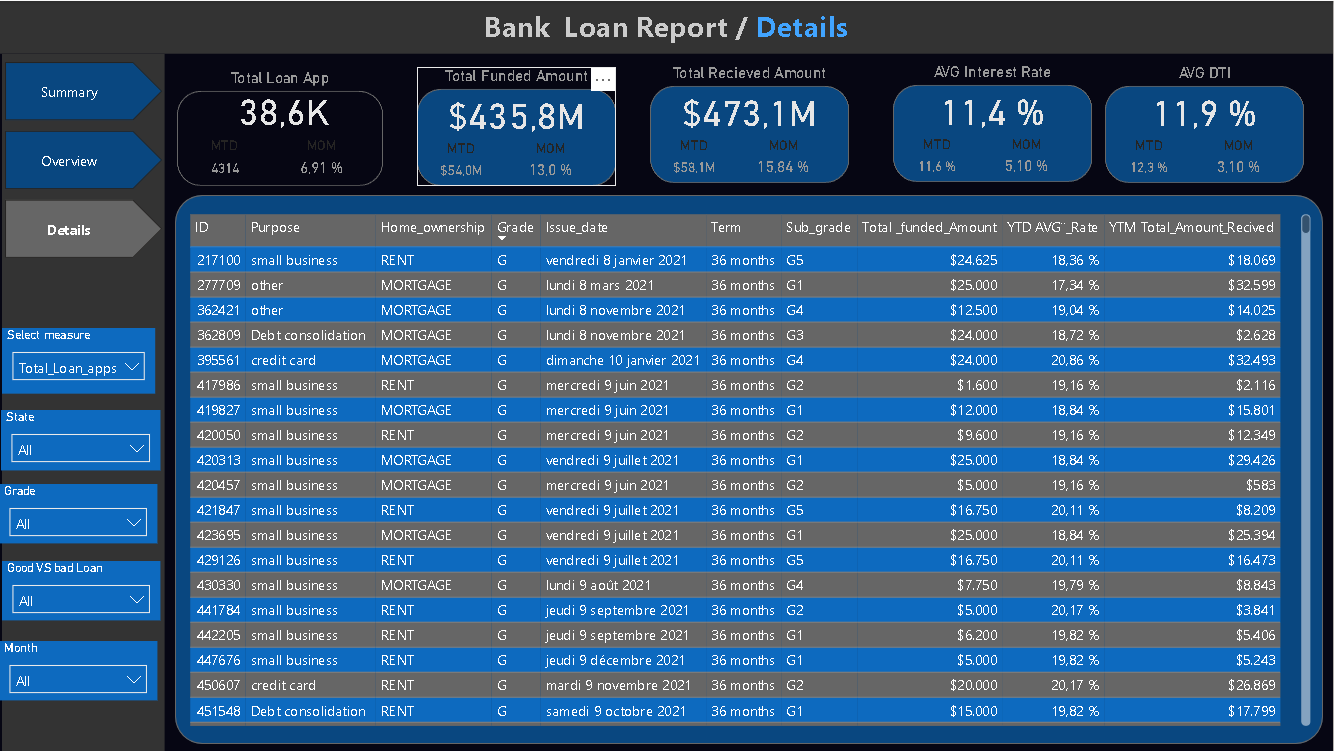

The page's visual inventory and layout, read from the dashboard file:
{"tool":"powerbi","page":{"name":"Details","canvas":[1280,720],"ordinal":2},"visuals":[{"type":"shape","box":[0,0,1280,50.6],"z":0},{"type":"shape","title":"AVG Interest Rate","box":[857.8,59.5,191.3,114.3],"z":0,"group":"g5"},{"type":"shape","title":"Total Recieved Amount ","box":[624.6,60.4,191.3,114.3],"z":0,"group":"g3"},{"type":"shape","title":"AVG DTI","box":[1061.5,60.4,191.3,114.3],"z":0,"group":"g4"},{"type":"shape","title":"Total Funded Amount","box":[401.2,63.4,191.3,114.3],"z":0,"group":"g2"},{"type":"shape","title":"Total Loan App","box":[170.9,64.8,197.8,112.3],"z":0,"group":"g1"},{"type":"shape","box":[2.9,50.9,156.4,668.8],"z":1000},{"type":"card","fields":{"Values":["bank-data.Total_Loan_apps"]},"box":[181.4,77,185.4,52.6],"z":1000,"group":"g1"},{"type":"card","fields":{"Values":["bank-data.YTD AVG¨_Rate"]},"box":[868.3,79.1,169.2,50.1],"z":1000,"group":"g5"},{"type":"card","fields":{"Values":["bank-data.YTM Total_Amount_Recived"]},"box":[635.1,80,169.2,50.1],"z":1000,"group":"g3"},{"type":"card","fields":{"Values":["bank-data.YTD AVG¨_DTI"]},"box":[1072,80,169.2,50.1],"z":1000,"group":"g4"},{"type":"card","fields":{"Values":["bank-data.Total _funded_Amount"]},"box":[411.7,83,169.2,50.1],"z":1000,"group":"g2"},{"type":"textbox","box":[408.5,0,463,50.6],"z":2000},{"type":"card","title":"MTD ","fields":{"Values":["bank-data.MTD AVG_Rate"]},"box":[868.3,129.1,64.1,44.6],"z":2000,"group":"g5"},{"type":"card","title":"MTD ","fields":{"Values":["bank-data.MTD Loan_App"]},"box":[181.4,129.6,70.2,46.9],"z":2000,"group":"g1"},{"type":"card","title":"MTD ","fields":{"Values":["bank-data.MTD Receved_Amount"]},"box":[635.1,130,64.1,44.6],"z":2000,"group":"g3"},{"type":"card","title":"MTD ","fields":{"Values":["bank-data.MTD AVG_DTI"]},"box":[1072,130,64.1,44.6],"z":2000,"group":"g4"},{"type":"card","title":"MTD ","fields":{"Values":["bank-data.MTD Fundden_AMount"]},"box":[411.7,133,64.1,44.6],"z":2000,"group":"g2"},{"type":"group","id":"g1","title":"Group 1","box":[170.9,64.8,197.8,112.3],"z":3000},{"type":"card","title":"MOM","fields":{"Values":["bank-data.MOM AVG_Rate"]},"box":[953.4,129.1,64.1,44.6],"z":3000,"group":"g5"},{"type":"card","title":"MOM","fields":{"Values":["bank-data.MOM Loan_App"]},"box":[274.6,129.6,70.2,46.9],"z":3000,"group":"g1"},{"type":"card","title":"MOM","fields":{"Values":["bank-data.MOM Total_Receved_amount"]},"box":[720.2,130,64.1,44.6],"z":3000,"group":"g3"},{"type":"card","title":"MOM","fields":{"Values":["bank-data.MOM AVG_DTI"]},"box":[1157.1,130,64.1,44.6],"z":3000,"group":"g4"},{"type":"card","title":"MOM","fields":{"Values":["bank-data.MOM Total_Funded_amount"]},"box":[496.8,133,64.1,44.6],"z":3000,"group":"g2"},{"type":"group","id":"g2","title":"Group 1","box":[401.2,63.4,190.8,114.3],"z":4000},{"type":"group","id":"g3","title":"Group 1","box":[624.6,60.4,190.9,113.2],"z":5000},{"type":"group","id":"g4","title":"Group 1","box":[1061.5,60.4,190.3,113.8],"z":6000},{"type":"group","id":"g5","title":"Group 1","box":[857.8,59.5,190.9,114.2],"z":7000},{"type":"shape","box":[168.9,186.1,1101.5,526.8],"z":8000},{"type":"slicer","title":"State","fields":{"Values":["bank-data.address_state"]},"box":[1.9,392.4,152.6,57.6],"z":9000},{"type":"slicer","title":"Grade","fields":{"Values":["bank-data.grade"]},"box":[0,463.4,151.6,56.6],"z":10000},{"type":"slicer","title":"Good VS bad Loan","fields":{"Values":["bank-data.Good vs Bad Loan"]},"box":[2.9,537.3,151.6,56.6],"z":11000},{"type":"slicer","title":"Month","fields":{"Values":["Date_Table.Month"]},"box":[0,614.1,151.6,56.6],"z":12000},{"type":"slicer","title":"Select measure","fields":{"Values":["select Measure.select Measure"]},"box":[2.9,313.8,146.8,63.3],"z":13000},{"type":"tableEx","fields":{"Values":["bank-data.id","bank-data.purpose","bank-data.home_ownership","bank-data.grade","bank-data.issue_date","bank-data.term","bank-data.sub_grade","bank-data.Total _funded_Amount","bank-data.YTD AVG¨_Rate","bank-data.YTM Total_Amount_Recived"]},"box":[177.5,199.6,1086.2,500.9],"z":14000},{"type":"pageNavigator","box":[5.8,58.5,151.6,188.1],"z":15000}]}

Visuals, with their boxes in screenshot pixels (x1, y1, x2, y2), scaled from the page's 1280x720 canvas onto the 1334x751 screenshot:
shape: rect(0, 0, 1333, 53)
"AVG Interest Rate" shape: rect(894, 62, 1093, 181)
"Total Recieved Amount " shape: rect(651, 63, 850, 182)
"AVG DTI" shape: rect(1106, 63, 1306, 182)
"Total Funded Amount" shape: rect(418, 66, 617, 185)
"Total Loan App" shape: rect(178, 68, 384, 185)
shape: rect(3, 53, 166, 750)
card - bank-data.Total_Loan_apps: rect(189, 80, 382, 135)
card - bank-data.YTD AVG¨_Rate: rect(905, 83, 1081, 135)
card - bank-data.YTM Total_Amount_Recived: rect(662, 83, 838, 136)
card - bank-data.YTD AVG¨_DTI: rect(1117, 83, 1294, 136)
card - bank-data.Total _funded_Amount: rect(429, 87, 605, 139)
textbox: rect(426, 0, 908, 53)
"MTD " card: rect(905, 135, 972, 181)
"MTD " card: rect(189, 135, 262, 184)
"MTD " card: rect(662, 136, 729, 182)
"MTD " card: rect(1117, 136, 1184, 182)
"MTD " card: rect(429, 139, 496, 185)
"Group 1" group: rect(178, 68, 384, 185)
"MOM" card: rect(994, 135, 1060, 181)
"MOM" card: rect(286, 135, 359, 184)
"MOM" card: rect(751, 136, 817, 182)
"MOM" card: rect(1206, 136, 1273, 182)
"MOM" card: rect(518, 139, 585, 185)
"Group 1" group: rect(418, 66, 617, 185)
"Group 1" group: rect(651, 63, 850, 181)
"Group 1" group: rect(1106, 63, 1305, 182)
"Group 1" group: rect(894, 62, 1093, 181)
shape: rect(176, 194, 1324, 744)
"State" slicer: rect(2, 409, 161, 469)
"Grade" slicer: rect(0, 483, 158, 542)
"Good VS bad Loan" slicer: rect(3, 560, 161, 619)
"Month" slicer: rect(0, 641, 158, 700)
"Select measure" slicer: rect(3, 327, 156, 393)
tableEx - bank-data.id x bank-data.purpose: rect(185, 208, 1317, 731)
pageNavigator: rect(6, 61, 164, 257)
